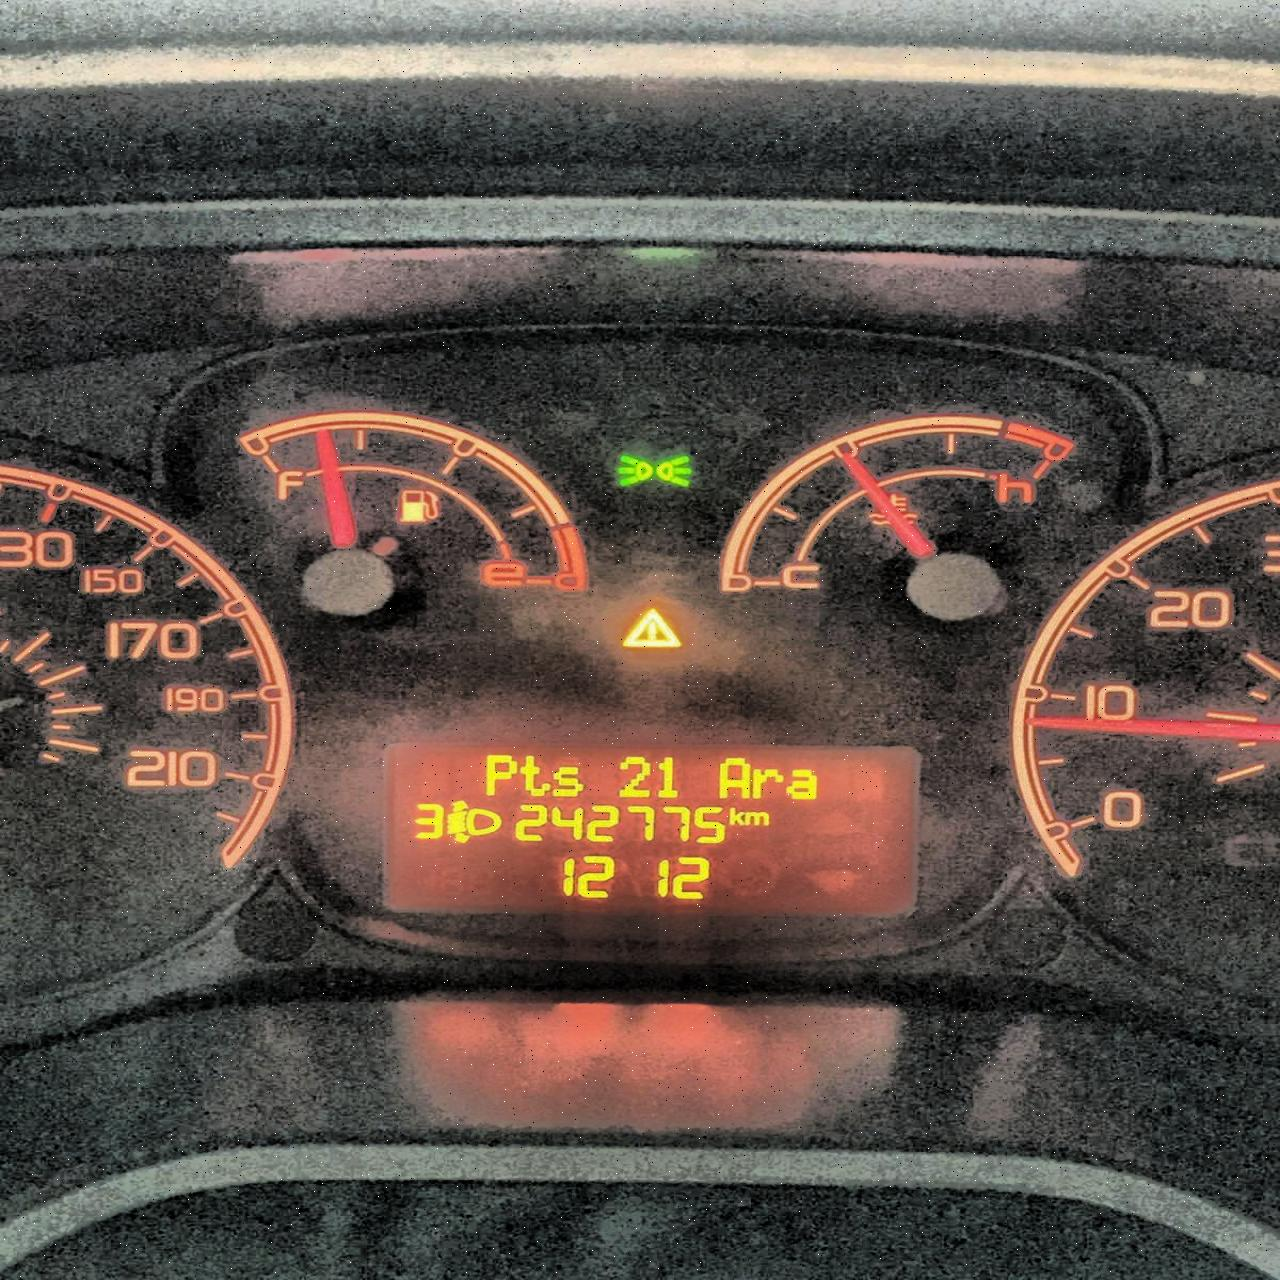1: (655, 751, 679, 799), (560, 853, 577, 901), (656, 856, 669, 901)
2: (580, 852, 618, 899), (674, 853, 708, 897), (620, 754, 651, 801), (515, 801, 546, 843), (586, 804, 618, 843)
3: (413, 797, 441, 840)
4: (550, 802, 583, 840)
5: (694, 802, 726, 845)
7: (624, 803, 655, 840), (662, 802, 690, 840)
X: (482, 751, 515, 799), (715, 757, 750, 799), (517, 755, 550, 799), (787, 767, 816, 801), (554, 763, 583, 797), (754, 768, 781, 798), (745, 810, 770, 828), (728, 806, 747, 828)
odometer: (374, 730, 928, 927)
